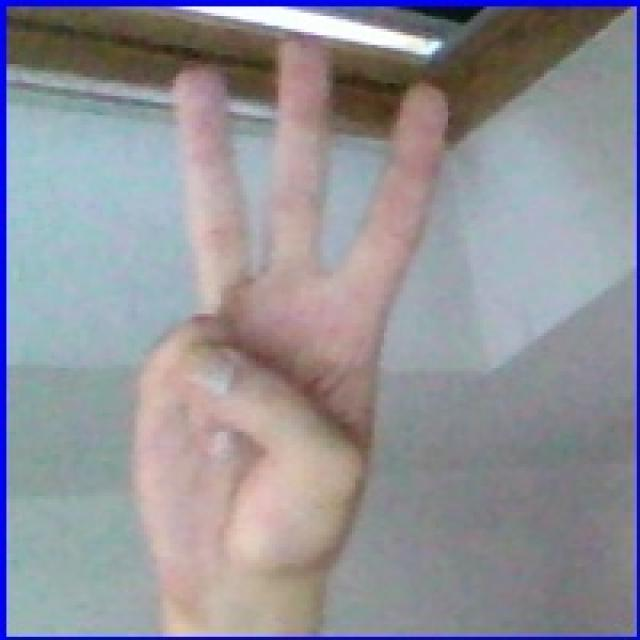Letra-W: (96, 32, 480, 601)
